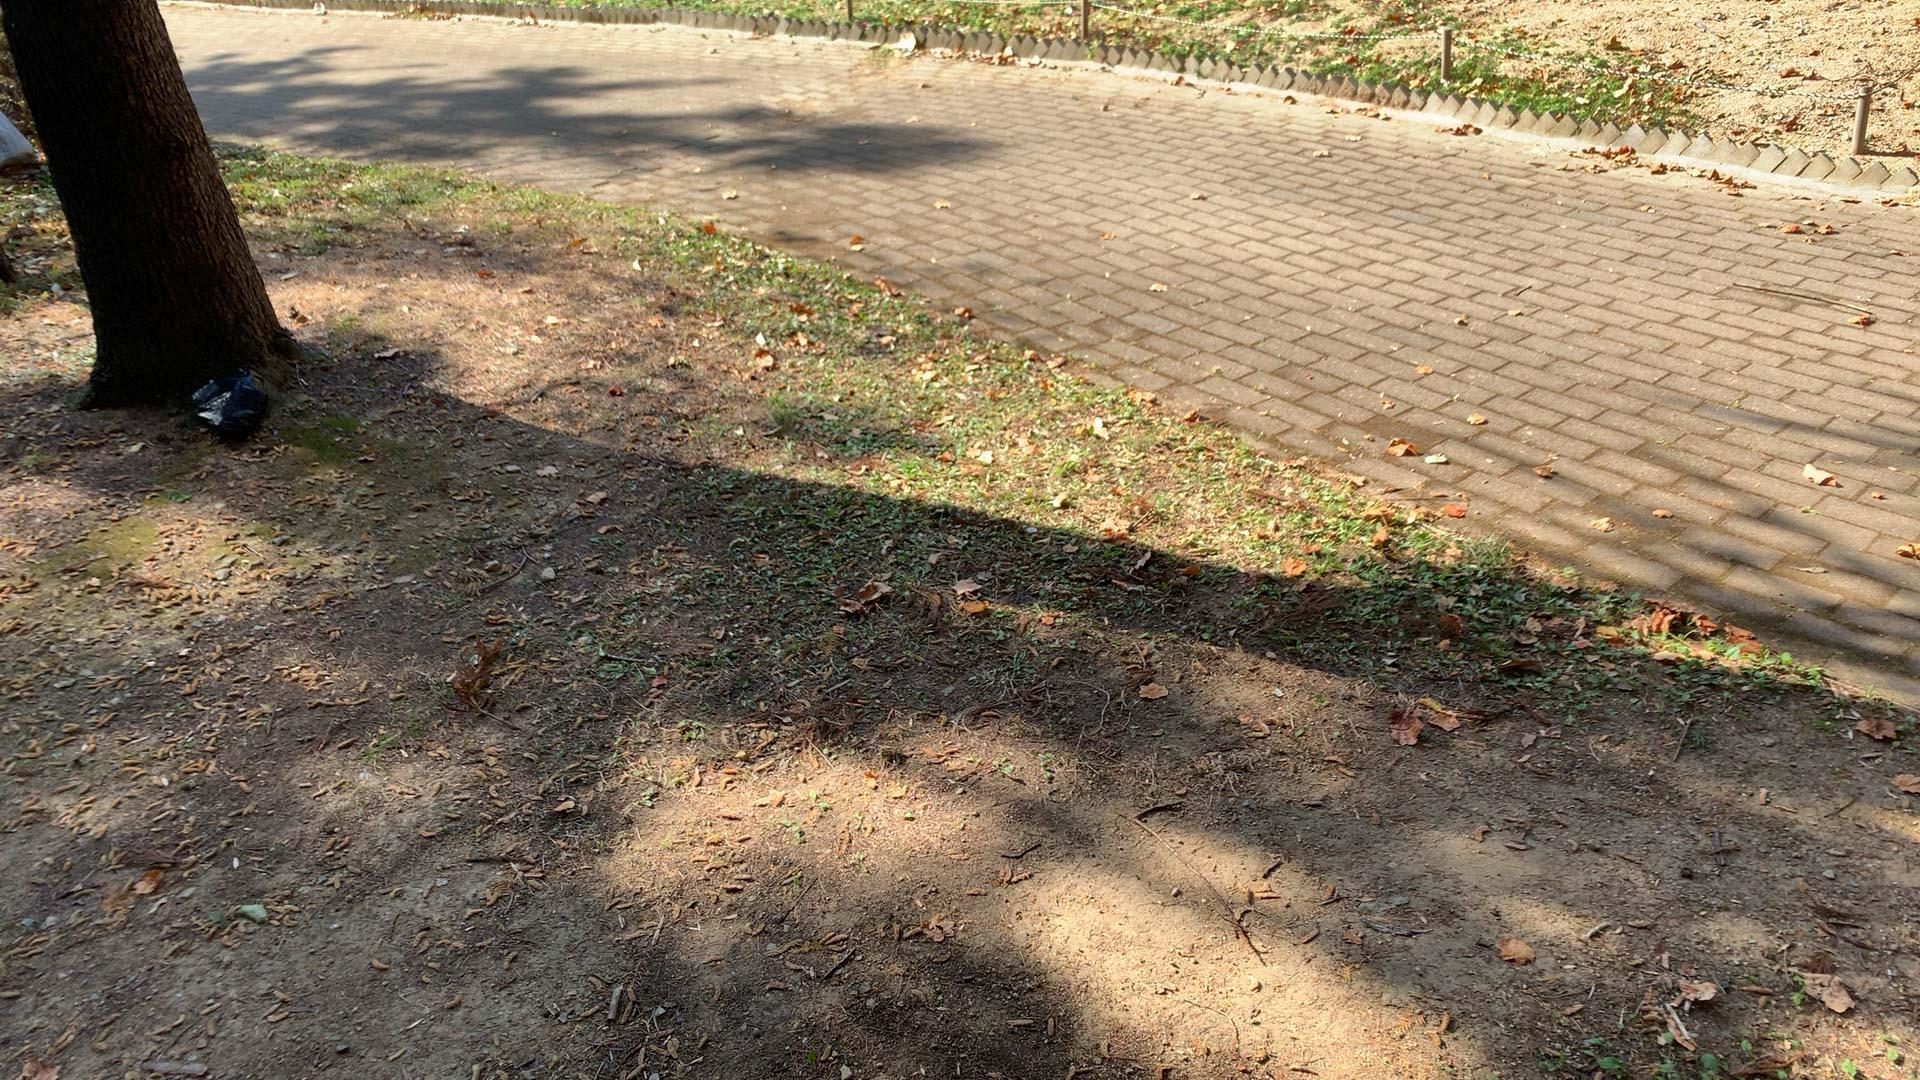black_bag: (185, 364, 281, 451)
